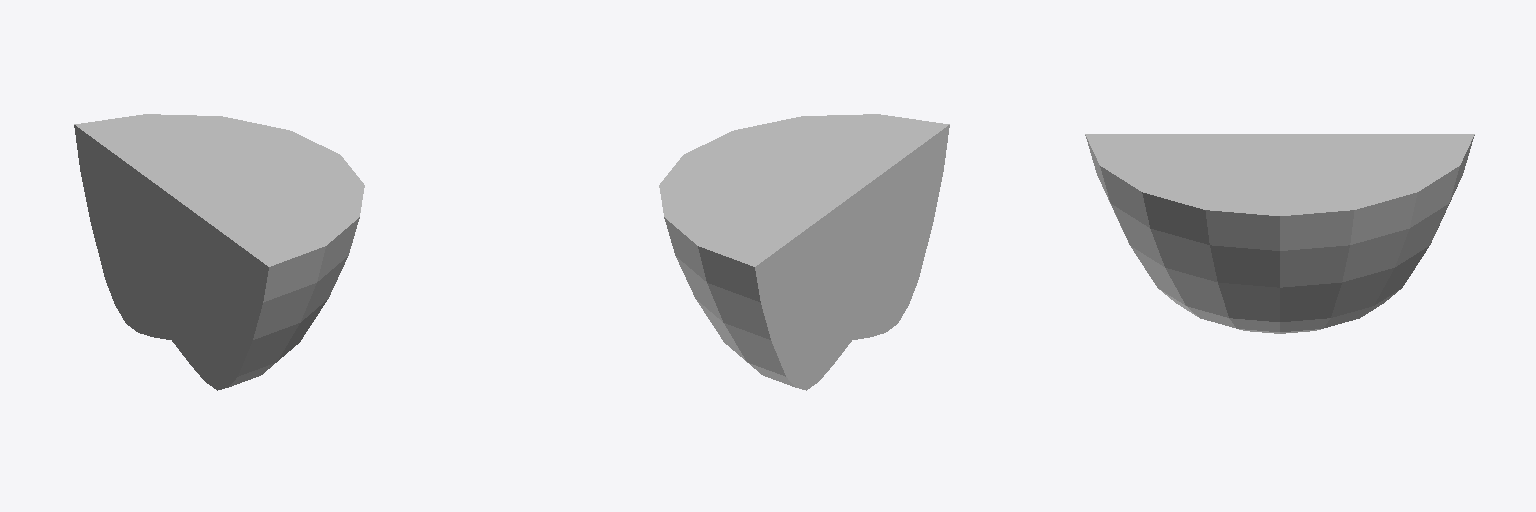
The model's file is manzana-1-4.obj.
3 renders of one model, left to right at view 1: azimuth 30°, elevation 25°; view 2: azimuth 150°, elevation 25°; view 3: azimuth 270°, elevation 25°, orthographic.
Parts seen in each view (by area): view 1: Manzana-1_2_Sphere.004; view 2: Manzana-1_2_Sphere.004; view 3: Manzana-1_2_Sphere.004.
Part boxes in pixels (left/top/right/bottom): Manzana-1_2_Sphere.004: left=74, top=114, right=364, bottom=390; Manzana-1_2_Sphere.004: left=659, top=114, right=949, bottom=390; Manzana-1_2_Sphere.004: left=1085, top=134, right=1474, bottom=333.
Size of the model in its own units: 1.76 by 1.61 by 3.53.